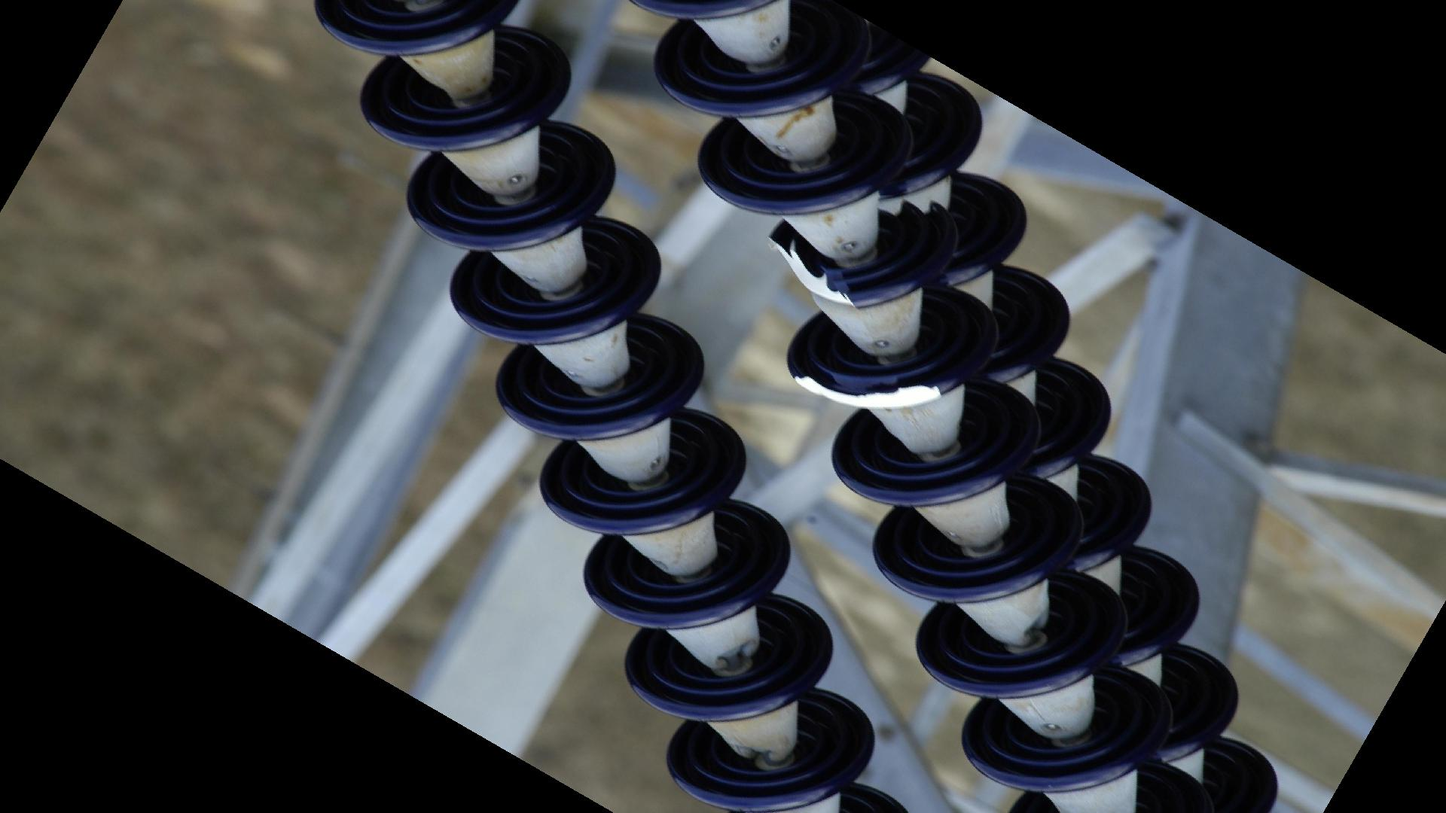insulator: (651, 1, 1287, 813), (307, 1, 914, 813)
insulator_breakage: (778, 358, 956, 421), (756, 225, 866, 312)
